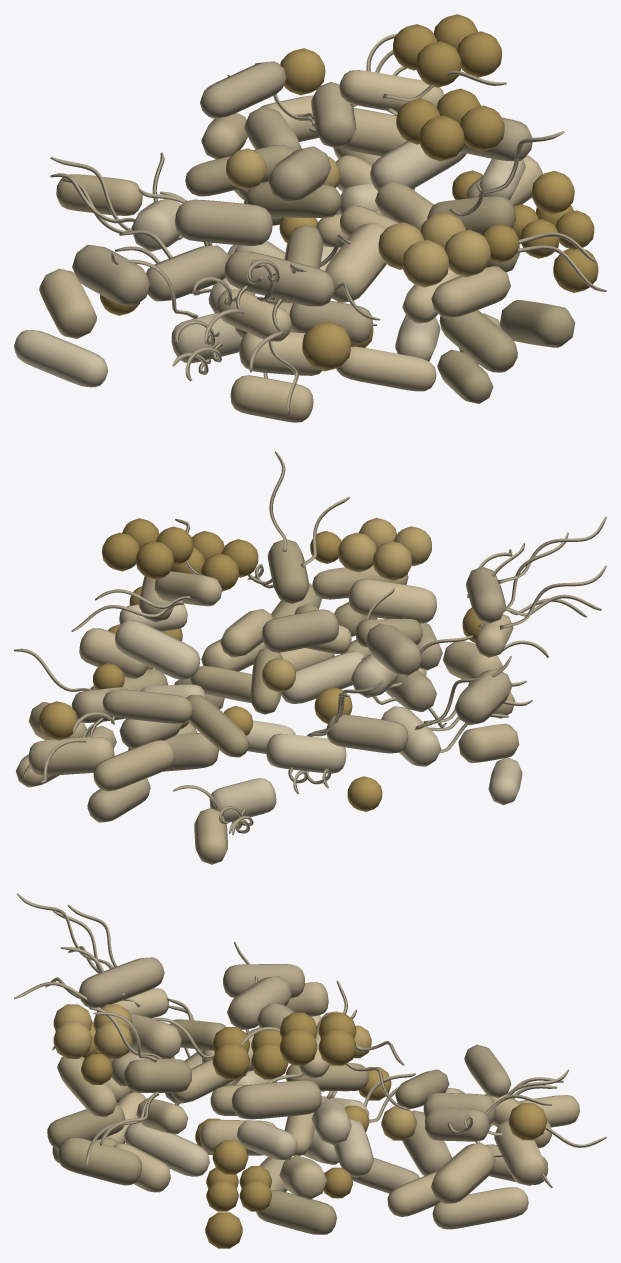
File: bacteria.glb
The picture shows the model from 3 angles, top to bottom: view 1: azimuth 30°, elevation 25°; view 2: azimuth 150°, elevation 25°; view 3: azimuth 270°, elevation 25°; orthographic projection. The views are drawn at different scales.
Visible parts, largest first — view 1: bacteria; view 2: bacteria; view 3: bacteria.
Part boxes in pixels (left/top/right/bottom): bacteria: left=14, top=14, right=606, bottom=422; bacteria: left=14, top=451, right=606, bottom=864; bacteria: left=14, top=893, right=606, bottom=1248.
Size of the model in its own units: 0.648 by 0.28 by 0.7588.
